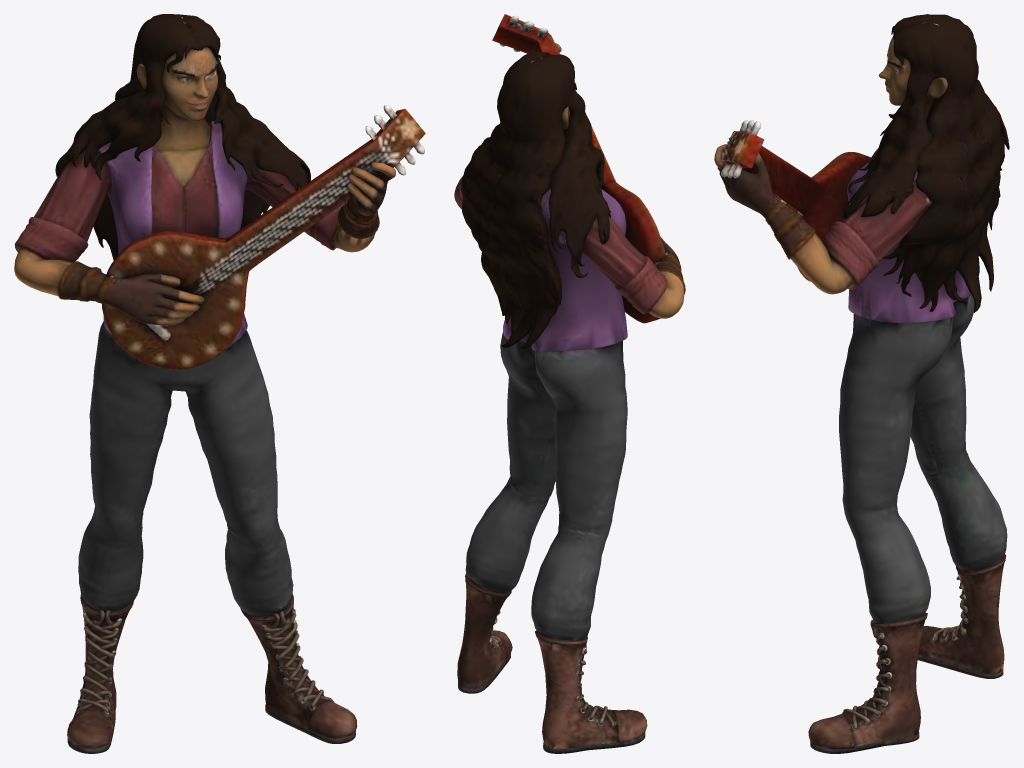
File: MZ4250 - Human Female Bard 3_b.glb
3 views of the same model, side by side, from view 1: azimuth 30°, elevation 25°; view 2: azimuth 150°, elevation 25°; view 3: azimuth 270°, elevation 25° (orthographic). The views are drawn at different scales.
Visible parts, largest first — view 1: Body.002; view 2: Body.002; view 3: Body.002.
Part boxes in pixels (bbox=[...]): Body.002: bbox=[14, 14, 425, 753]; Body.002: bbox=[454, 14, 685, 753]; Body.002: bbox=[714, 14, 1009, 753].
Bounding box in the file's own units: 40.57 × 90.66 × 35.82.
2 materials, 2 textured.
